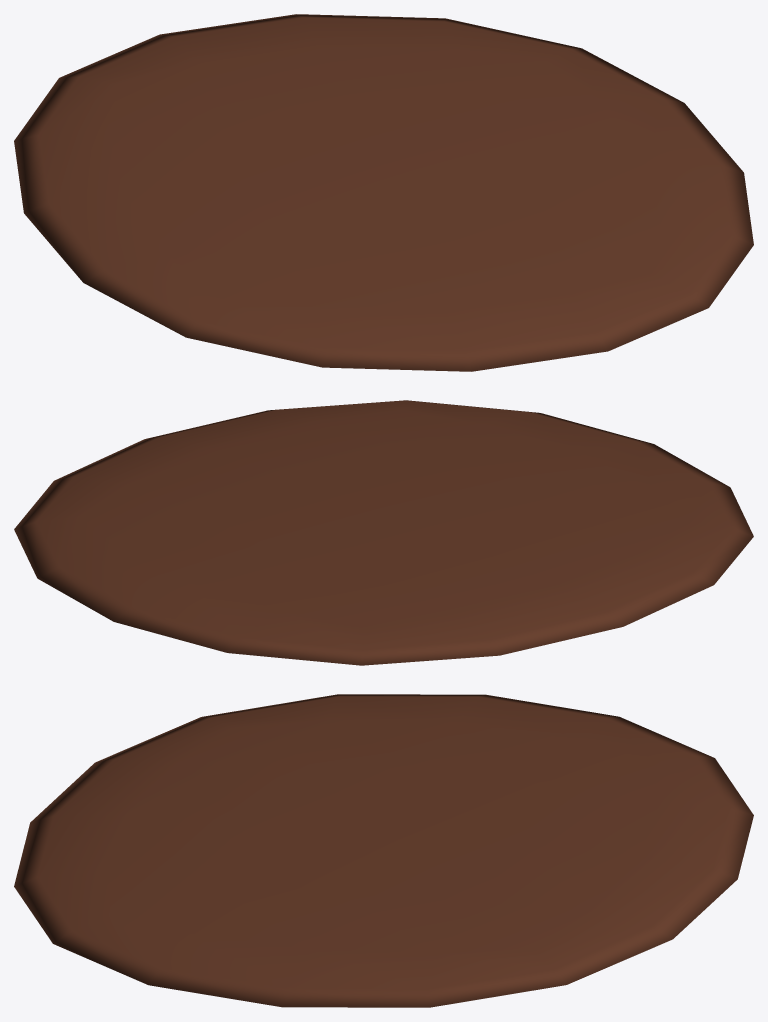
3 renders of one model, top to bottom at view 1: azimuth 30°, elevation 25°; view 2: azimuth 150°, elevation 25°; view 3: azimuth 270°, elevation 25°, orthographic. The views are drawn at different scales.
Parts seen in each view (by area): view 1: FLOOR-colonly; view 2: FLOOR-colonly; view 3: FLOOR-colonly.
Part boxes in pixels (x1,y1,x2,y2): FLOOR-colonly: [14, 14, 753, 371]; FLOOR-colonly: [14, 400, 753, 665]; FLOOR-colonly: [14, 694, 753, 1007].
Size of the model in its own units: 18.96 by 1.86 by 19.72.
